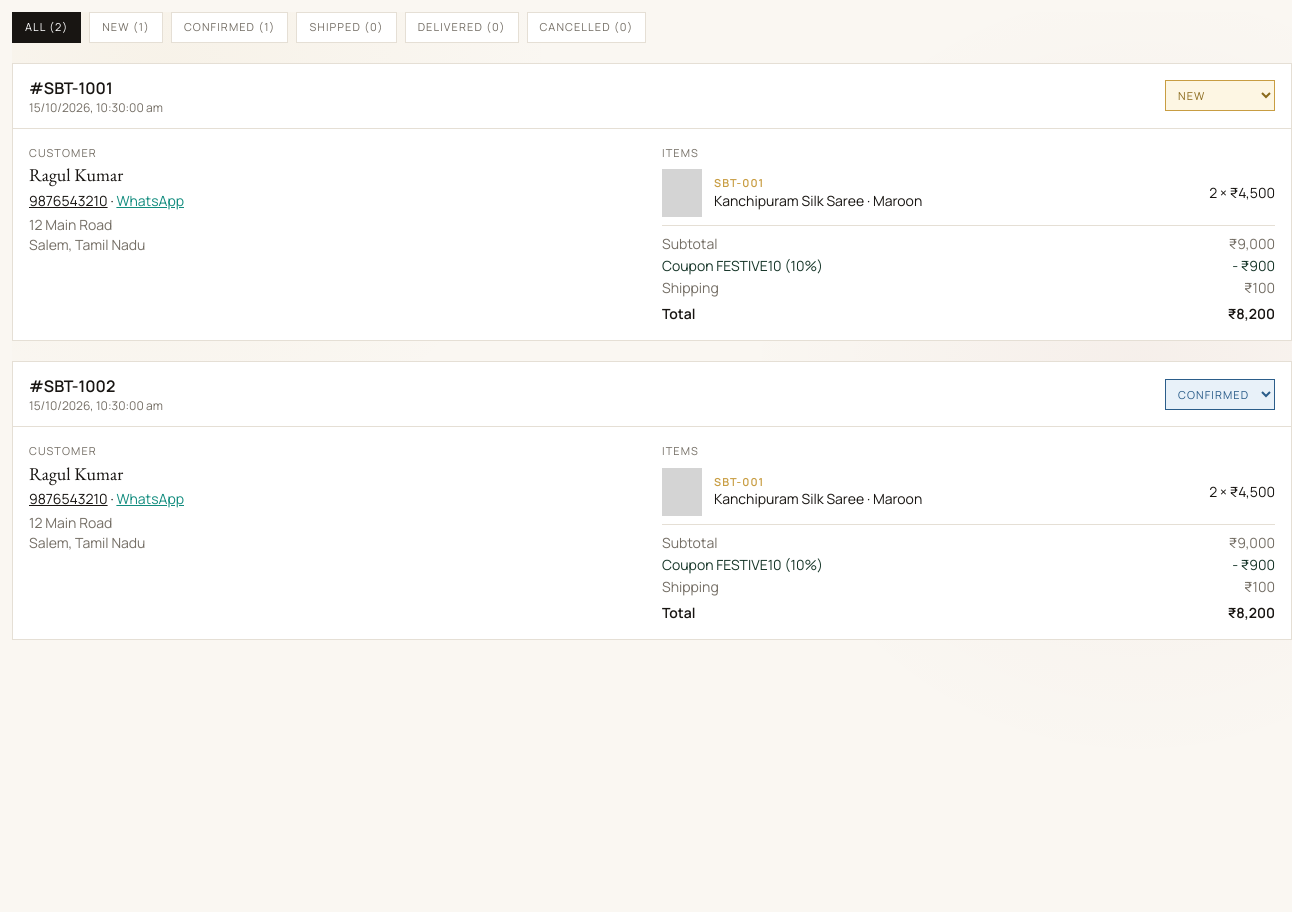
Test: AdminOrders › filters orders by status
This screenshot has width=1292, height=912.
Check: the text "#SBT-1001" is shown, box [29,76,113,98]
Check: the text "#SBT-1002" is shown, box [29,375,115,397]
Click the button "confirmed (1)" at (230, 27), box [171,12,288,42]
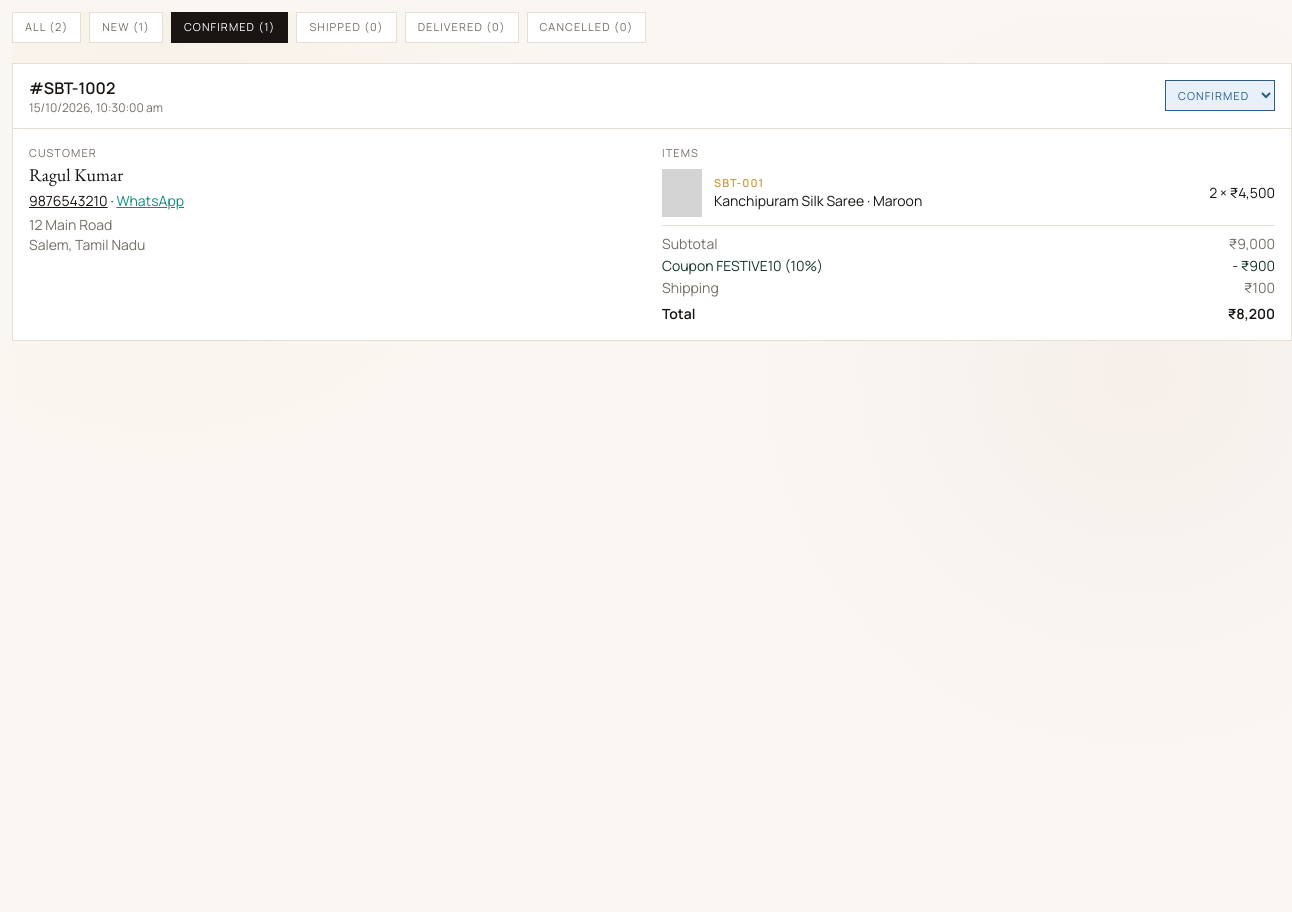
Check: the text "#SBT-1002" is shown, box [29,76,115,98]
Check: the text "#SBT-1001" is gone
